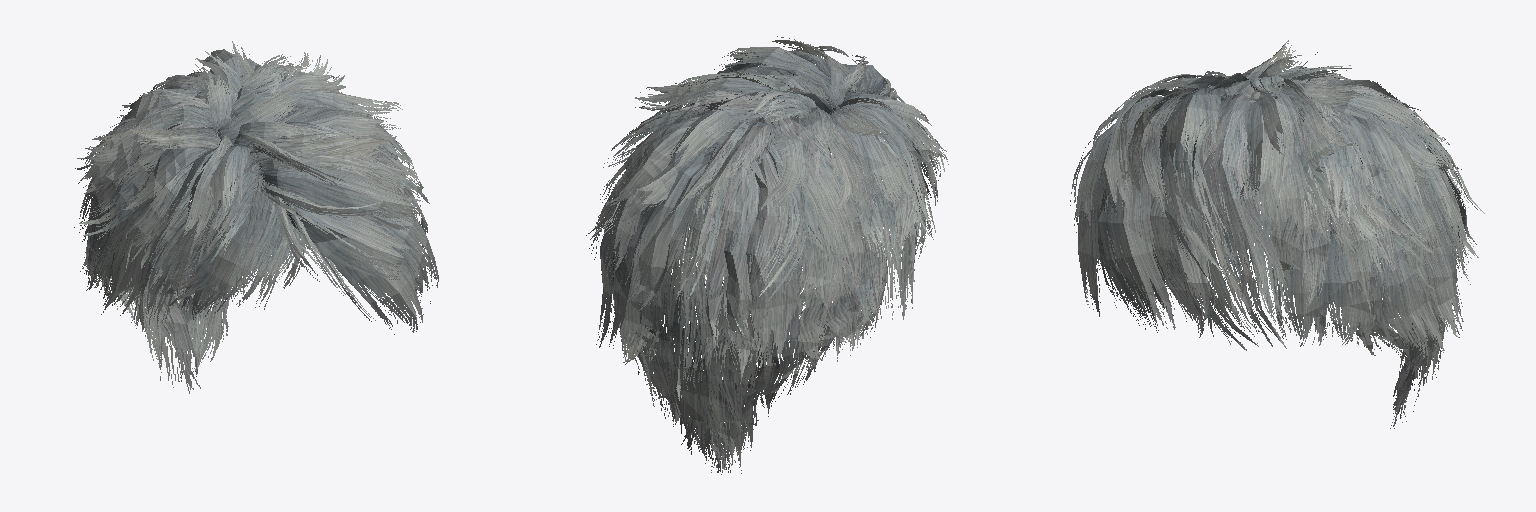
3 views of the same model, side by side, from view 1: azimuth 30°, elevation 25°; view 2: azimuth 150°, elevation 25°; view 3: azimuth 270°, elevation 25° (orthographic).
Visible parts, largest first — view 1: rdmobj00; view 2: rdmobj00; view 3: rdmobj00.
Part boxes in pixels (bbox=[...]): rdmobj00: bbox=[74, 41, 438, 393]; rdmobj00: bbox=[586, 36, 948, 474]; rdmobj00: bbox=[1070, 40, 1484, 428].
Bounding box in the file's own units: 0.6039 × 0.7078 × 0.7113.
Materials: 1 (1 with a texture image).